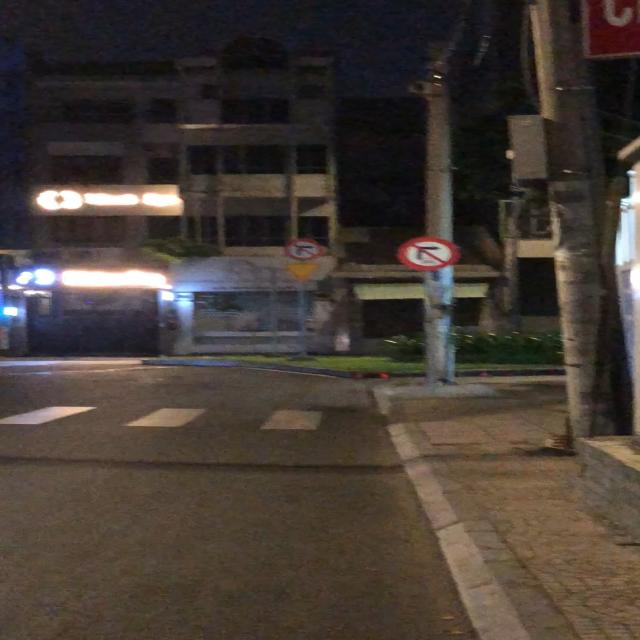Bien bao cam re phai: (283, 239, 325, 263)
Bien bao cam xe o to re phai: (397, 236, 461, 272)
Bien bao giao nhau voi duong uu tien: (283, 262, 321, 282)
